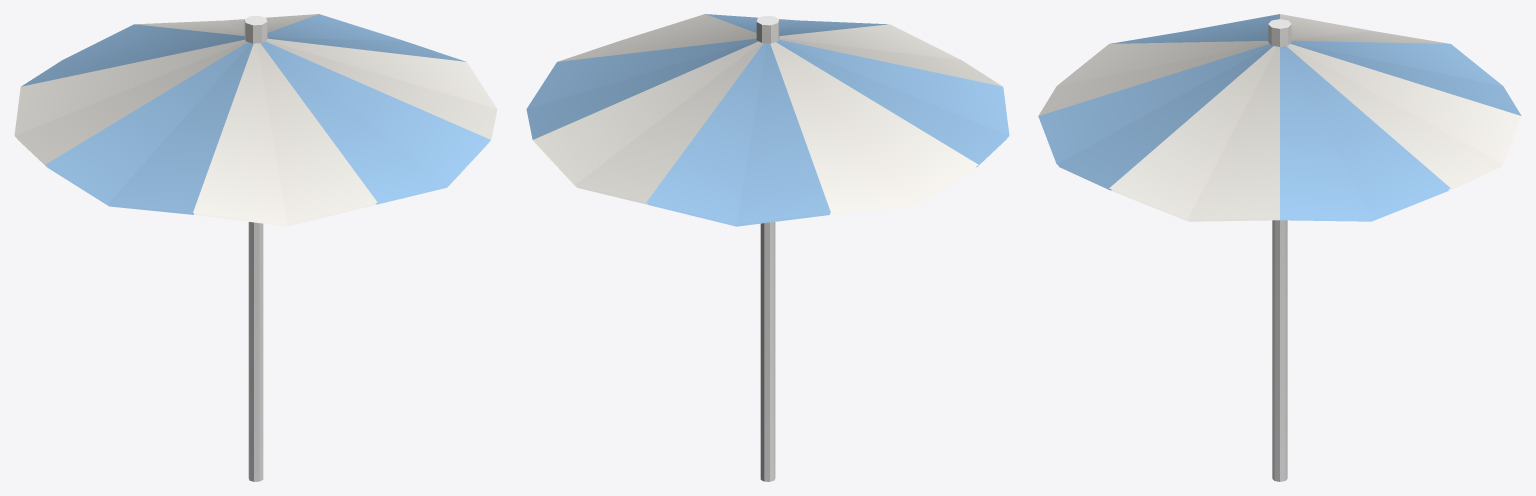
Rendered from VParasol_B.fbx.
3 renders of one model, left to right at view 1: azimuth 30°, elevation 25°; view 2: azimuth 150°, elevation 25°; view 3: azimuth 270°, elevation 25°, orthographic.
Visible parts, largest first — view 1: VParasol_B; view 2: VParasol_B; view 3: VParasol_B.
Part boxes in pixels (bbox=[...]): VParasol_B: bbox=[14, 14, 497, 481]; VParasol_B: bbox=[526, 14, 1009, 481]; VParasol_B: bbox=[1038, 14, 1521, 481].
Size of the model in its own units: 2.9 by 3.01 by 2.9.
